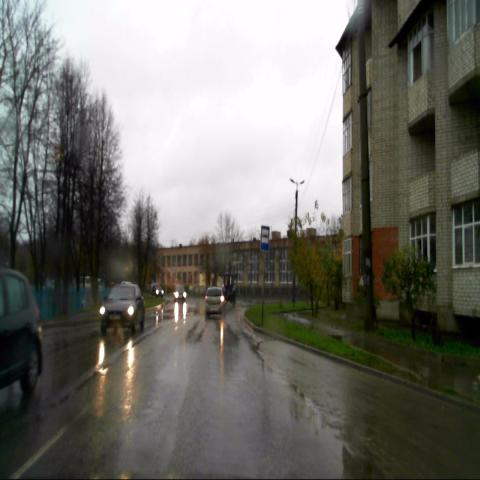5_16: (260, 226, 270, 252)
